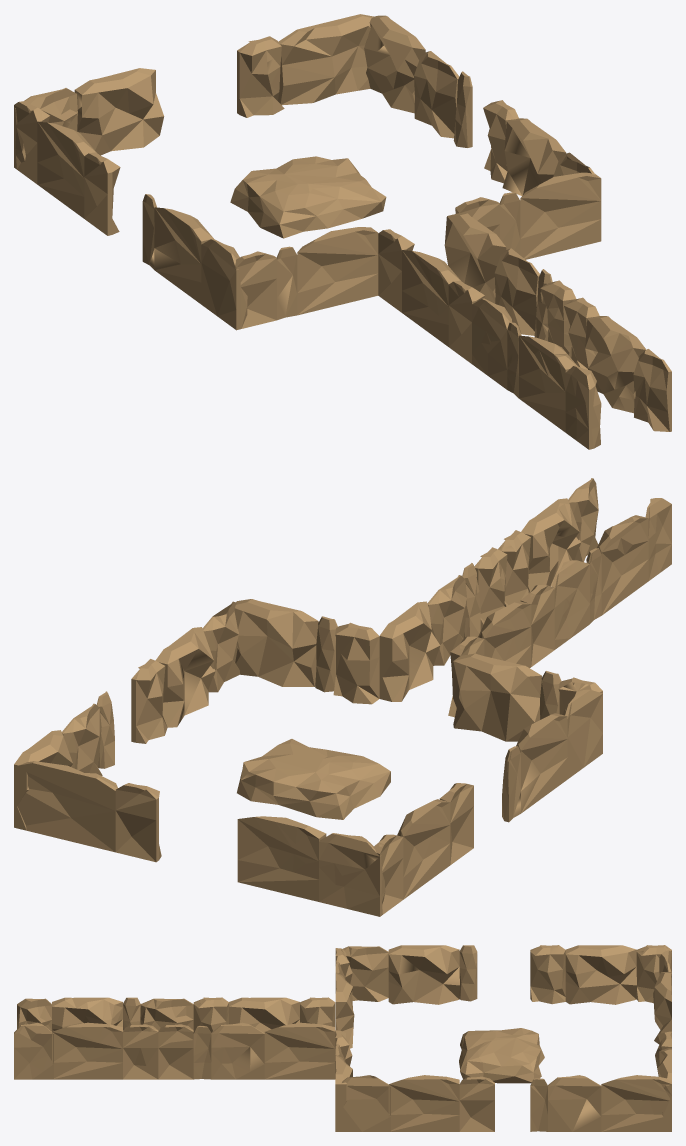
The model's file is commonn.fbx.
3 views of the same model, one above another, from view 1: azimuth 30°, elevation 25°; view 2: azimuth 150°, elevation 25°; view 3: azimuth 270°, elevation 25° (orthographic). The views are drawn at different scales.
Visible parts, largest first — view 1: Common; view 2: Common; view 3: Common.
Part boxes in pixels (x1=…): Common: x1=14, y1=14, x2=671, y2=449; Common: x1=14, y1=478, x2=671, y2=916; Common: x1=14, y1=945, x2=671, y2=1131.
Bounding box in the file's own units: 3612 × 655 × 7458.
